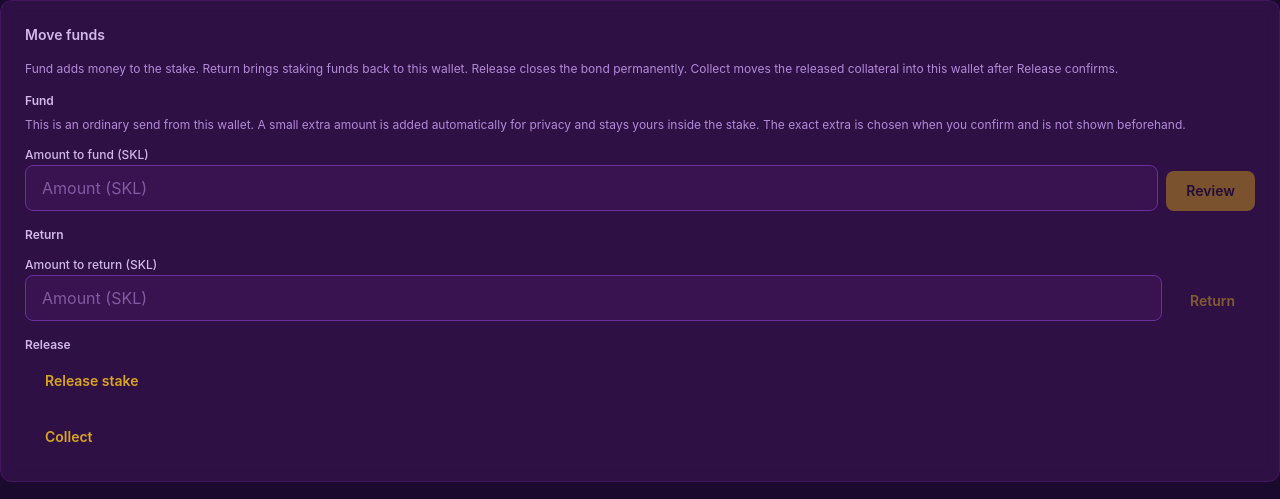
StakeActions fund reservation › discards the reservation when the panel is left
Type "1" into the field with placeholder "Amount (SKL)" at {"x": 592, "y": 188}, box x1=25 y1=165 x2=1158 y2=211
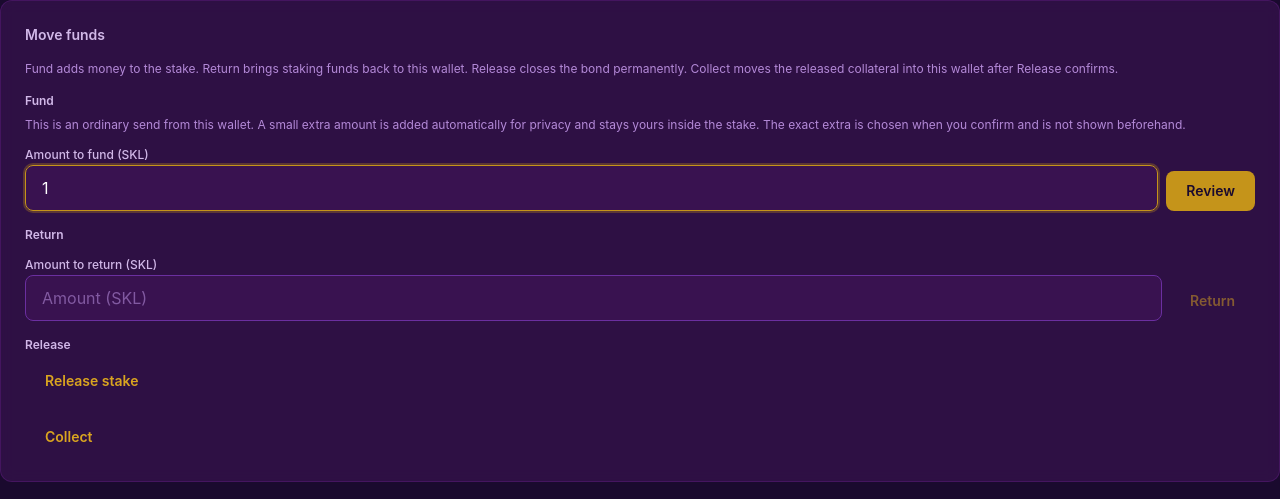
Click the button "Review" at {"x": 1211, "y": 191}, box x1=1166 y1=171 x2=1255 y2=211
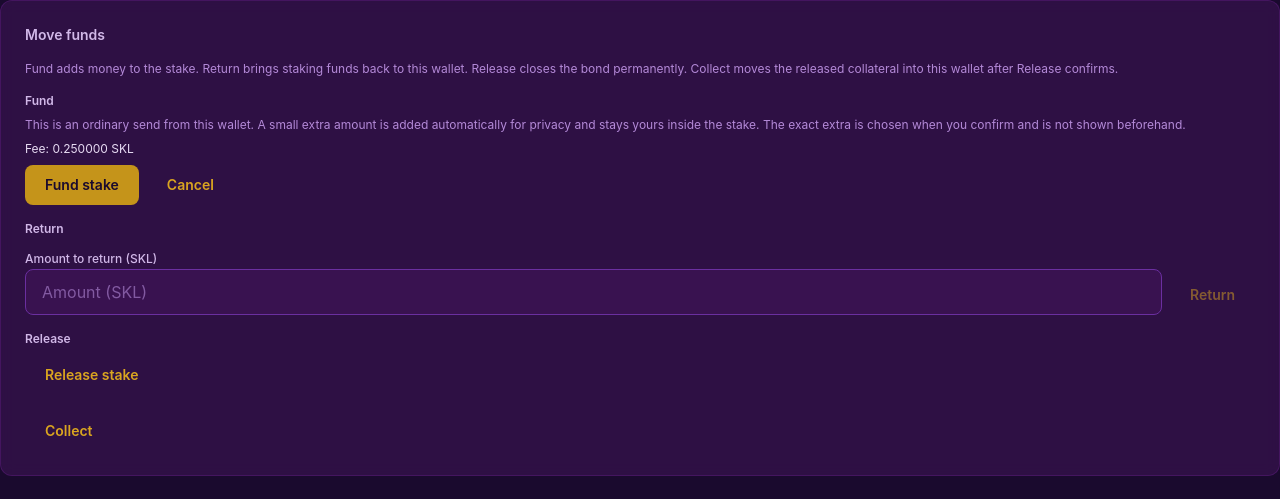
Expected: the text "Fee: 0.250000 SKL" is shown, x1=25 y1=141 x2=134 y2=156
